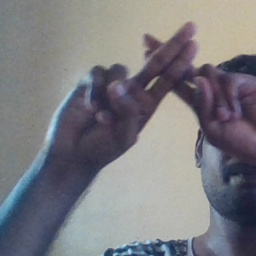F: (109, 12, 232, 134)
